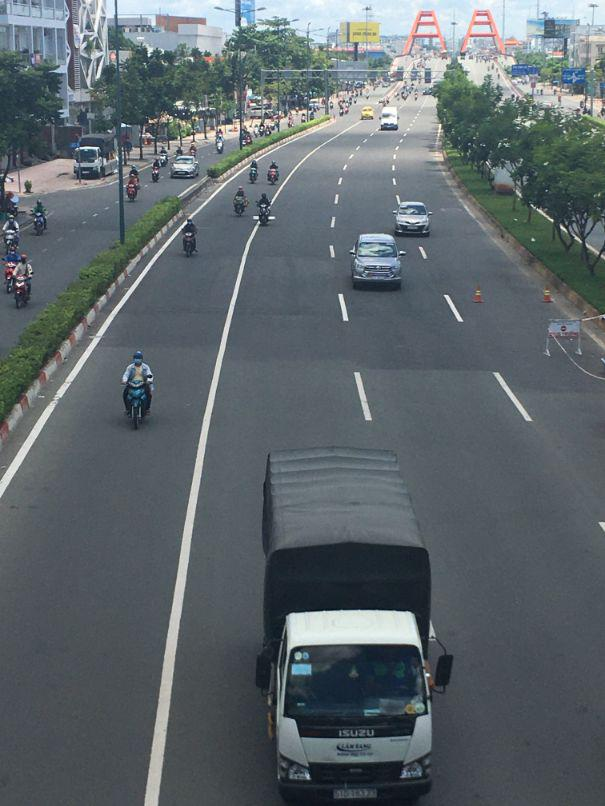car: (351, 234, 402, 293), (395, 201, 429, 238), (172, 156, 199, 178), (380, 107, 398, 131)
motorbike: (125, 376, 154, 429), (13, 268, 33, 307), (181, 222, 198, 259), (233, 189, 247, 215), (34, 212, 48, 235), (269, 163, 280, 183)
truck: (256, 447, 454, 806), (74, 132, 122, 180)
